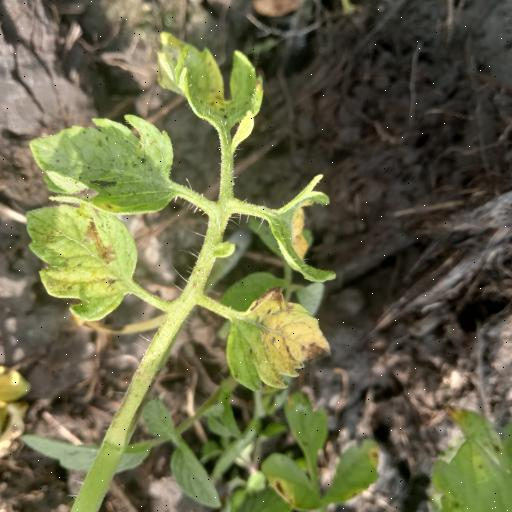Tomato_Brown_Spots: (24, 114, 192, 216), (22, 201, 139, 322), (222, 289, 335, 398), (158, 30, 272, 134)
